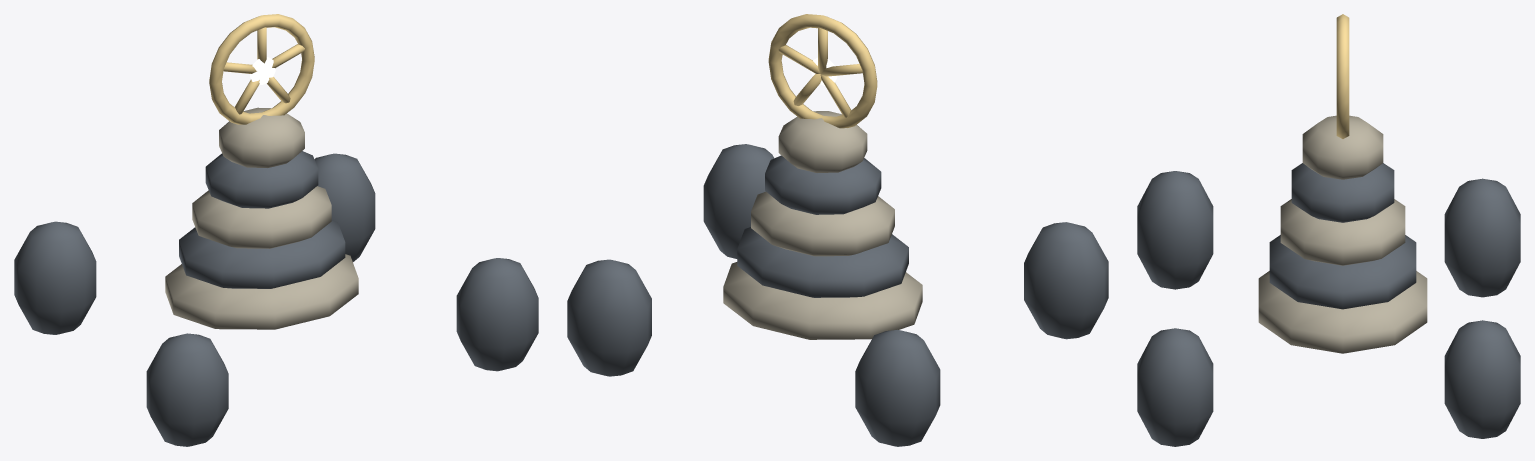
Rendered from discovery_star-cairn.glb.
The picture shows the model from 3 angles, left to right: view 1: azimuth 30°, elevation 25°; view 2: azimuth 150°, elevation 25°; view 3: azimuth 270°, elevation 25°; orthographic projection. The views are drawn at different scales.
Parts seen in each view (by area): view 1: discovery_star-cairn_part_0, discovery_star-cairn_part_1; view 2: discovery_star-cairn_part_0, discovery_star-cairn_part_1; view 3: discovery_star-cairn_part_0, discovery_star-cairn_part_1.
Boxes of the visible parts, x1,y1,x2,y2 form: discovery_star-cairn_part_0: (14, 107, 538, 446); discovery_star-cairn_part_1: (209, 14, 314, 124); discovery_star-cairn_part_0: (567, 111, 1108, 446); discovery_star-cairn_part_1: (768, 14, 877, 128); discovery_star-cairn_part_0: (1137, 115, 1520, 446); discovery_star-cairn_part_1: (1336, 14, 1349, 138).
Size of the model in its own units: 4.95 by 4.13 by 4.11.
